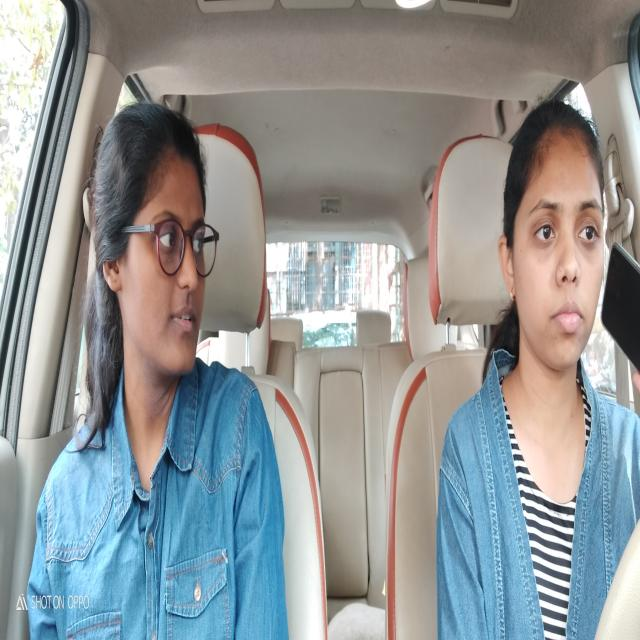mobile: (604, 226, 640, 372)
person: (90, 108, 218, 374), (495, 109, 608, 369)
